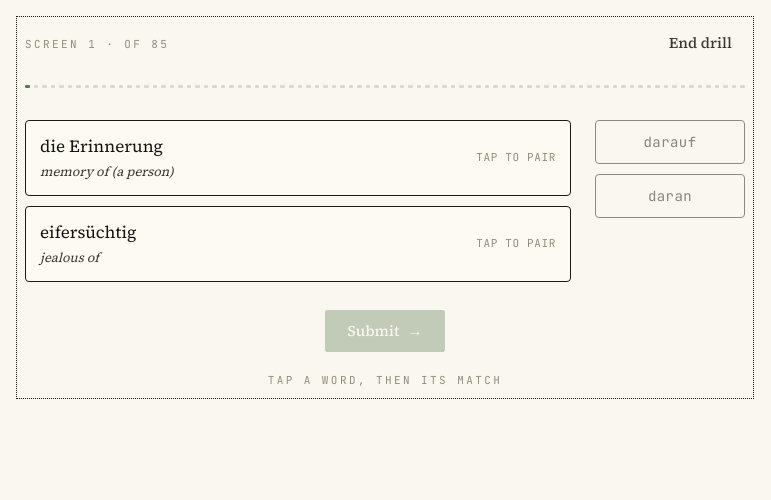
Scenario: MatchRunner — grading, reveal, retry, history (dataset-agnostic swap) › grades a deliberately-swapped pair as wrong and reveals the correct compound
What coordinates should you click on to do the following:
click the button "die Erinnerung memory of (a person) tap to pair"
I would click on:
 (102, 146)
Its box is [25, 120, 571, 196].
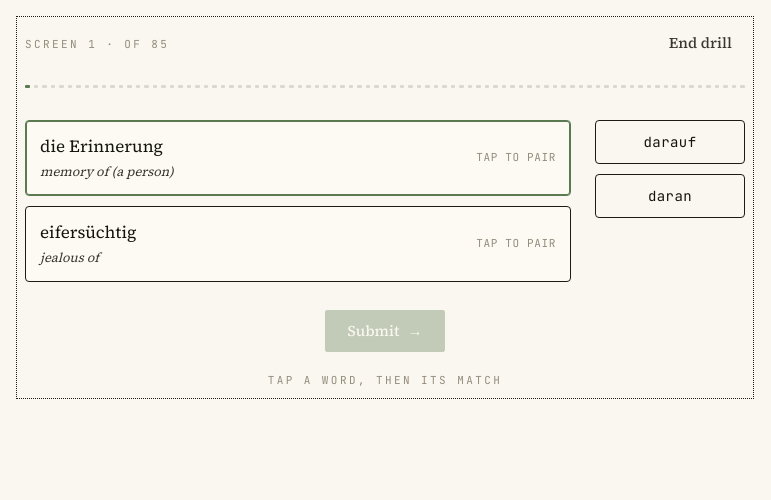
What coordinates should you click on to do the following:
click the button "darauf"
I would click on:
 (670, 142)
Its box is [595, 120, 745, 164].
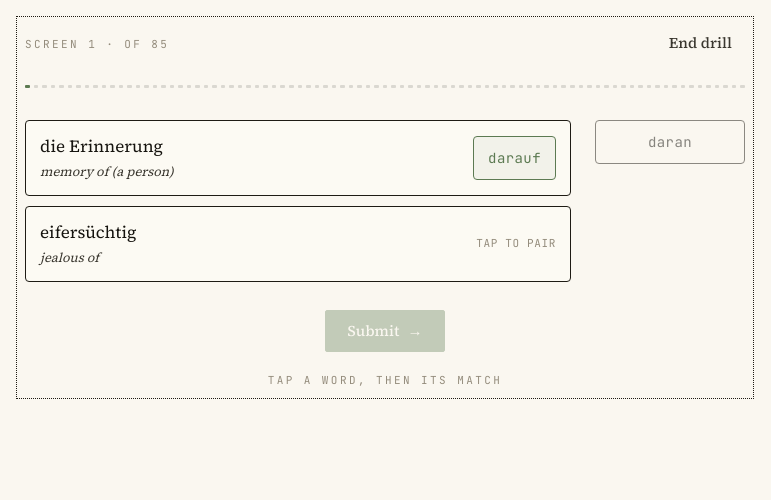
What coordinates should you click on to do the following:
click the button "eifersüchtig jealous of tap to pair"
I would click on:
 (88, 232)
Its box is [25, 206, 571, 282].
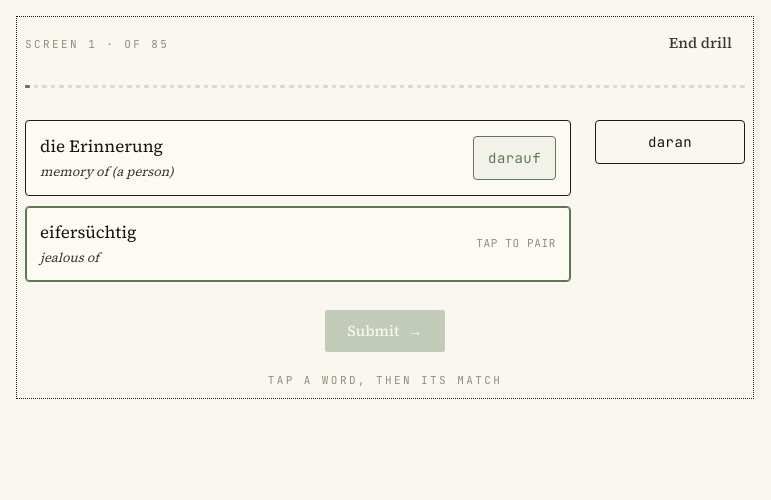
What coordinates should you click on to do the following:
click the button "daran"
I would click on:
 (670, 142)
Its box is [595, 120, 745, 164].
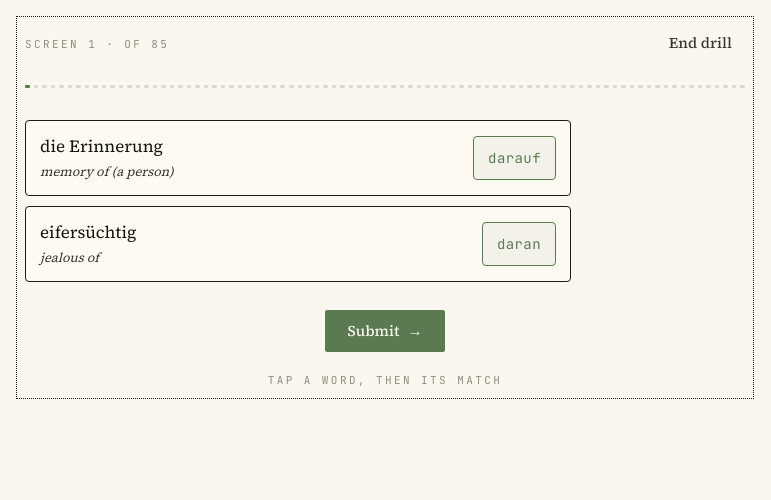
What coordinates should you click on to do the following:
click the button "Submit →"
I would click on:
 (385, 331)
Its box is [325, 310, 445, 352].
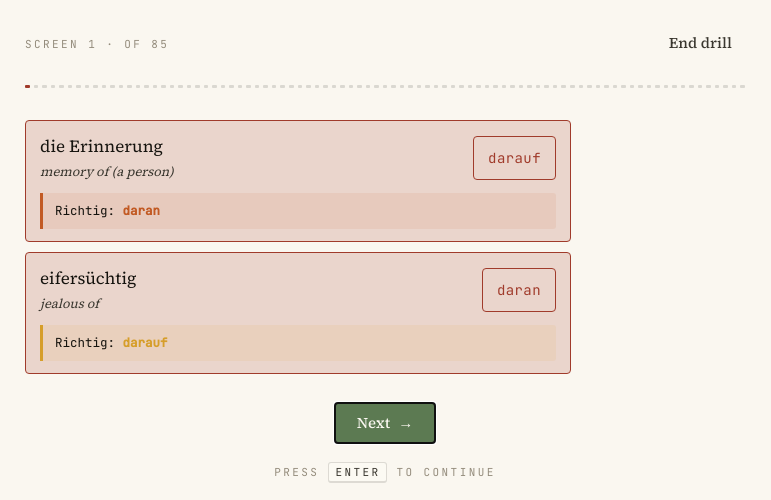
Check: the element showing "Richtig: daran" is shown, box [40, 193, 556, 229]
